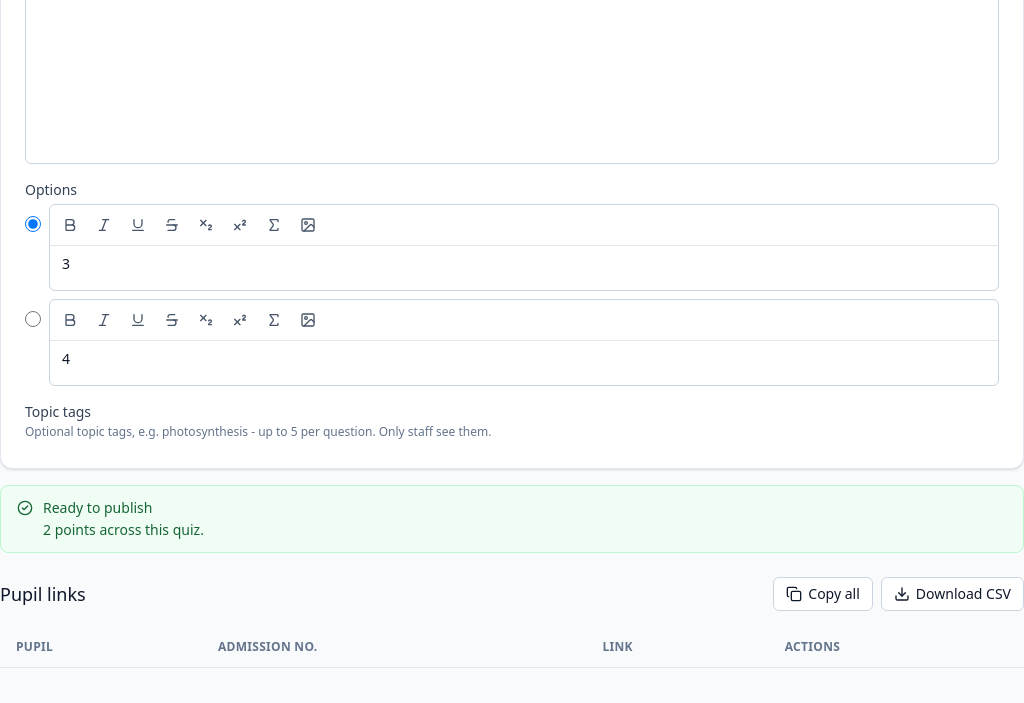
Test case: TakeHomeQuizEditorPage - correcting the answer key once pupils have submitted › leaves only the wording, answer and points editable, then re-scores after confirming the previewed impact
(page scrolled)
What coordinates should you click on to do the following:
click the radio button named "Option 2 is correct"
I would click on:
 (33, 319)
Its box is [25, 311, 41, 327].
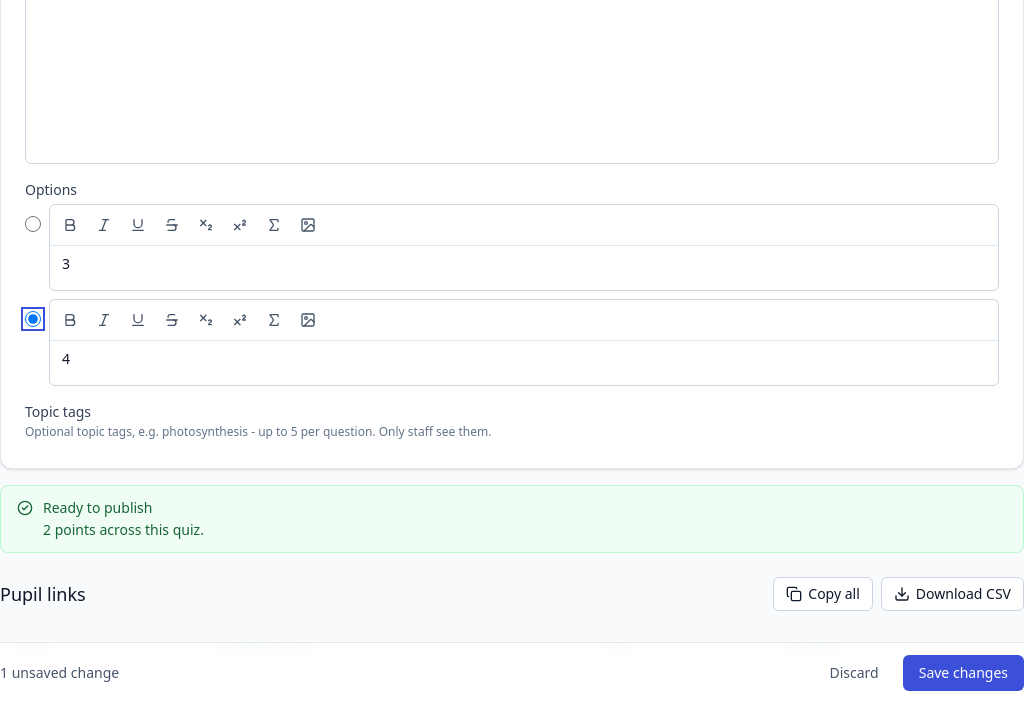
What coordinates should you click on to do the following:
click the button "Save changes"
I would click on:
 (963, 673)
Its box is [903, 655, 1023, 691].
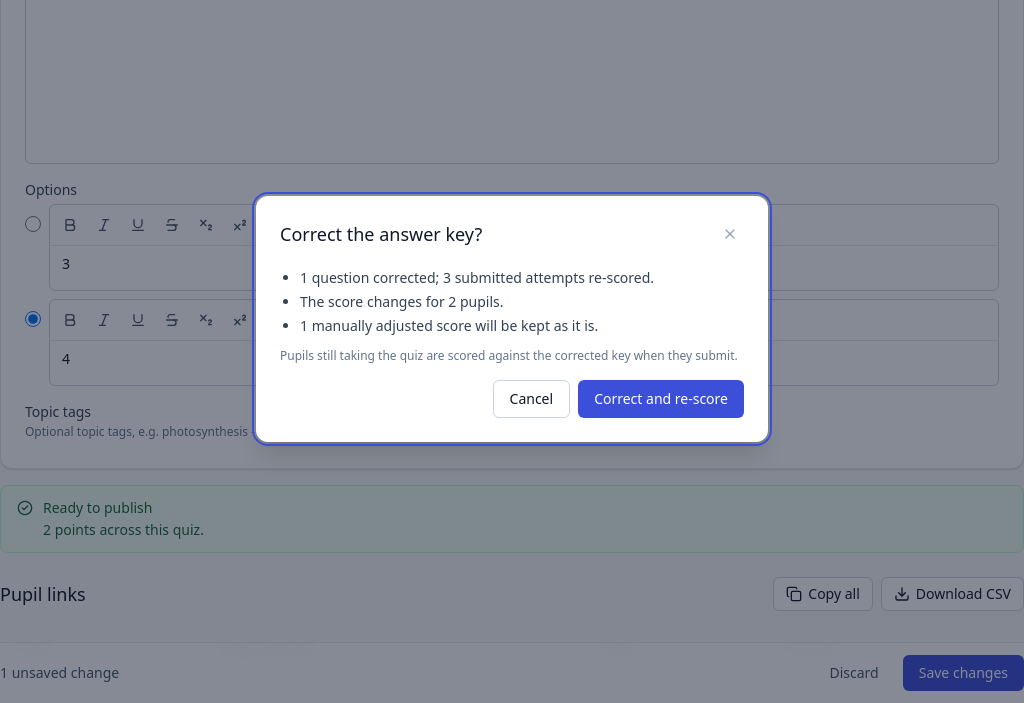
Expected: the list item "The score changes for 2 pupils." is shown, [300, 292, 504, 311]
Expected: the list item "1 manually adjusted score will be kept as it is." is shown, [300, 316, 598, 335]
What coordinates should you click on to do the following:
click the button "Correct and re-score"
I would click on:
 (661, 399)
Its box is [578, 380, 744, 418].
(page scrolled)
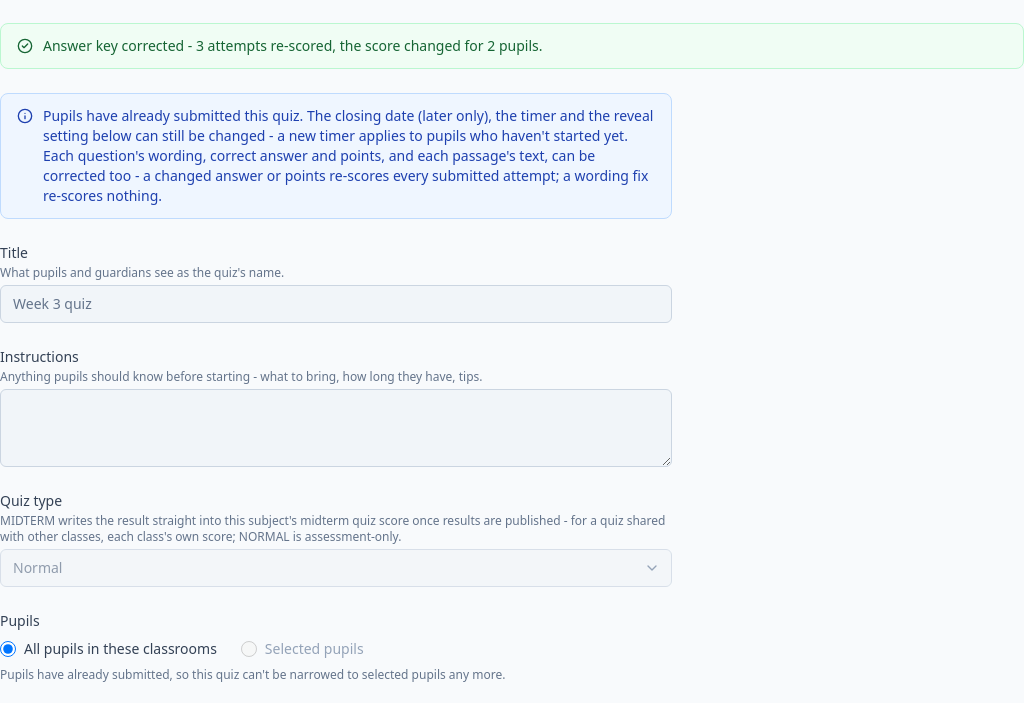
Expected: the text "Answer key corrected - 3 attempts re-scored, the score changed for 2 pupils." is shown, [43, 36, 542, 56]
